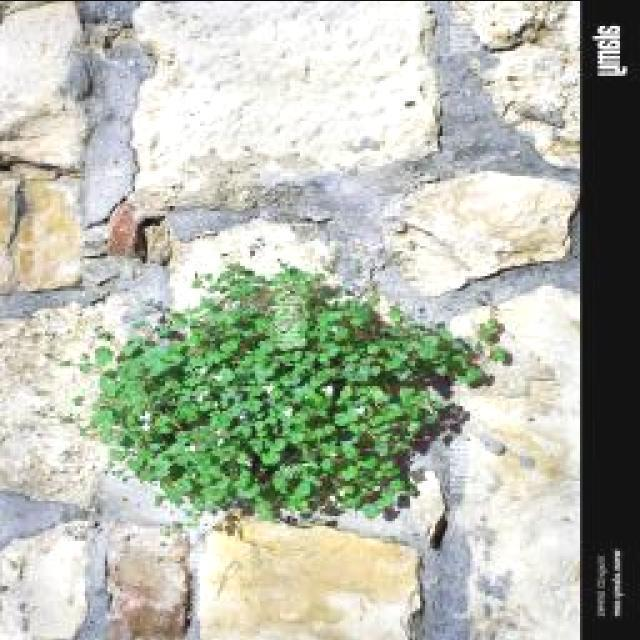vegetation: (76, 260, 511, 524)
